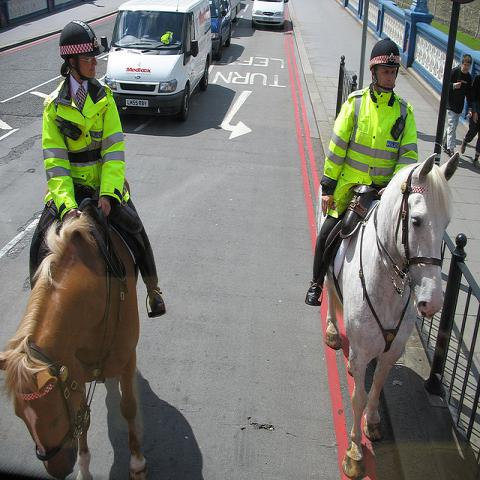car: (101, 2, 213, 124), (209, 0, 232, 62), (252, 0, 290, 30)
truck: (103, 0, 216, 120)
